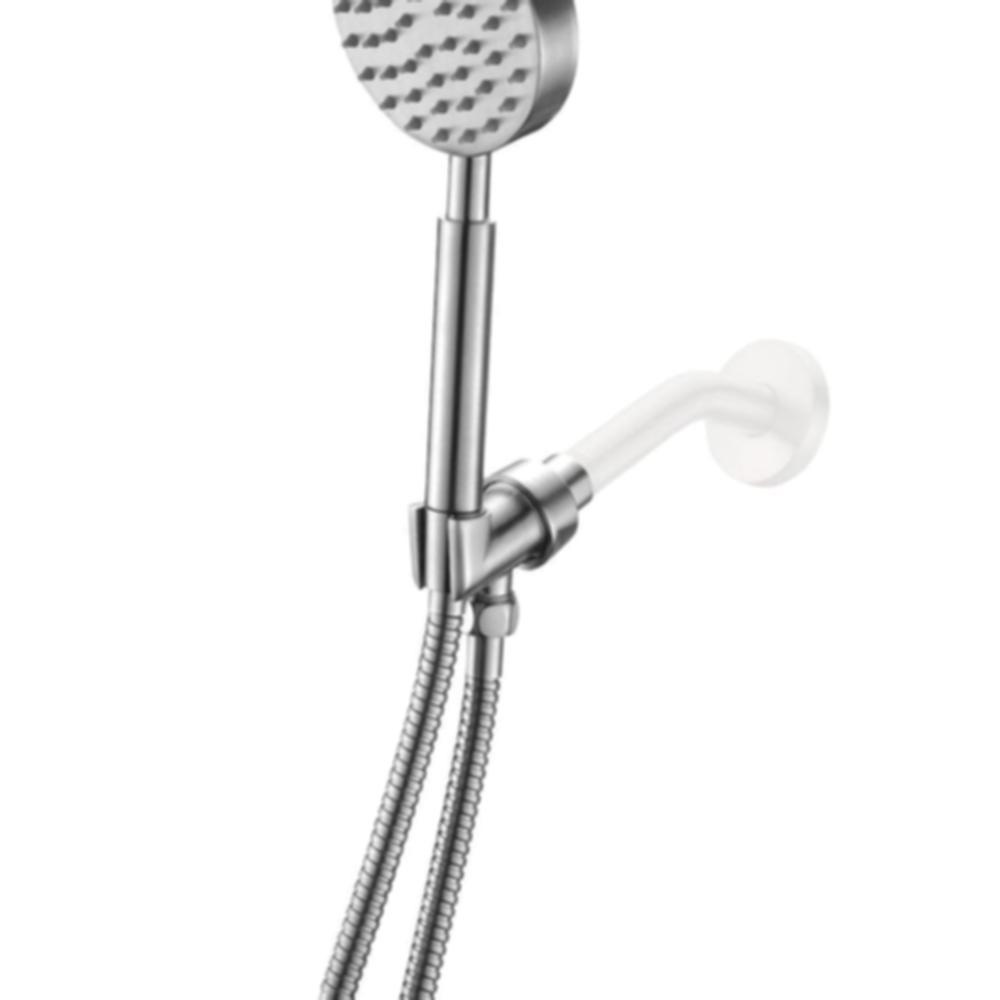Ducha: (249, 0, 820, 999)
